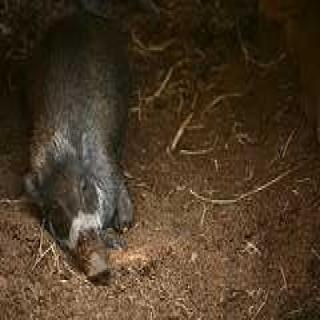Pig: (14, 24, 144, 280)
